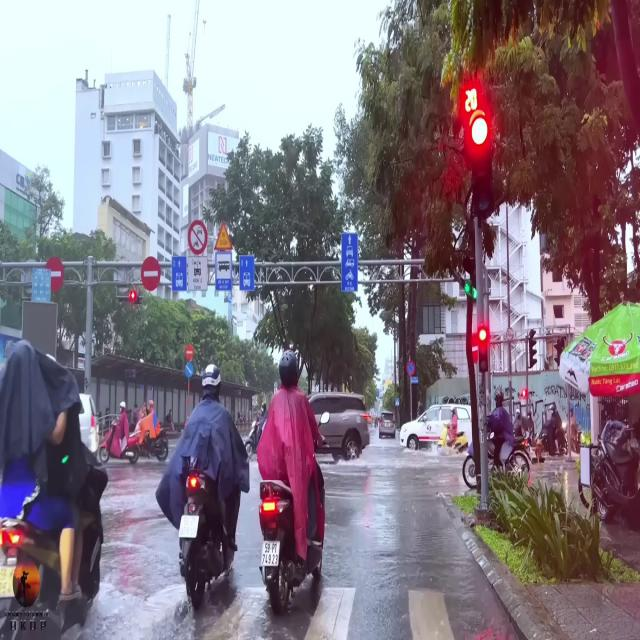bien_trang: (260, 542, 281, 566)
